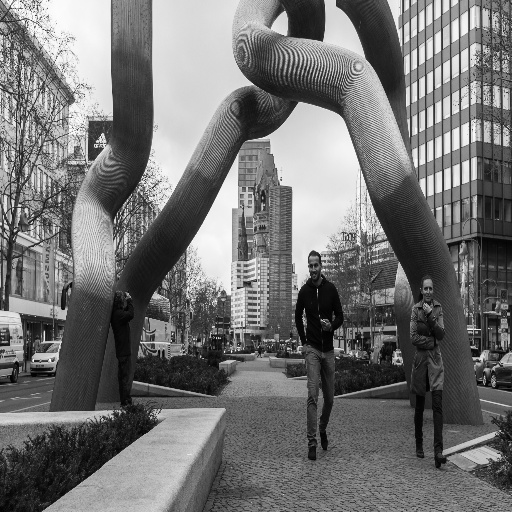hand: (320, 319, 332, 332), (421, 303, 430, 315), (303, 345, 308, 355)
